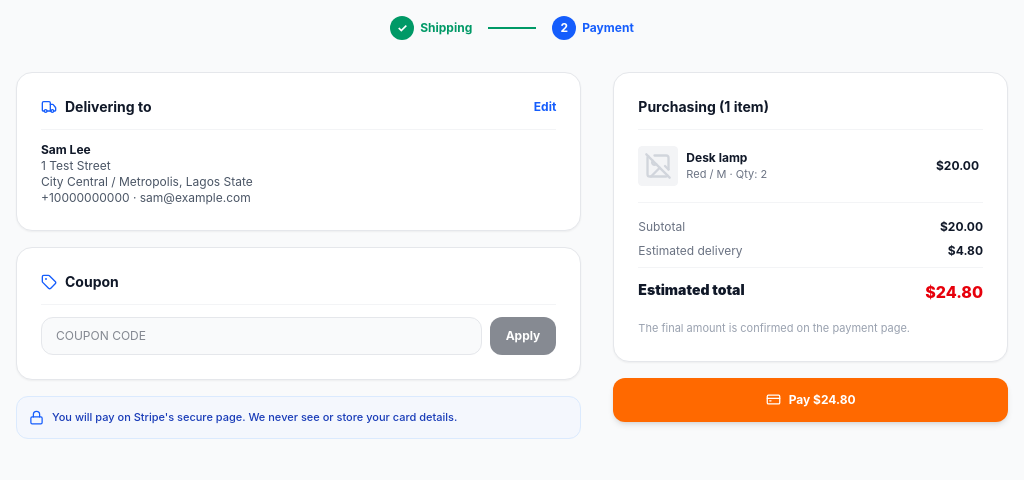
Test: Checkout page › coupon › explains a refused coupon, including the minimum spend
This screenshot has width=1024, height=480.
Step 1. Type "BIG" into the field labelled "Coupon code" → (261, 336), box [41, 317, 482, 355]
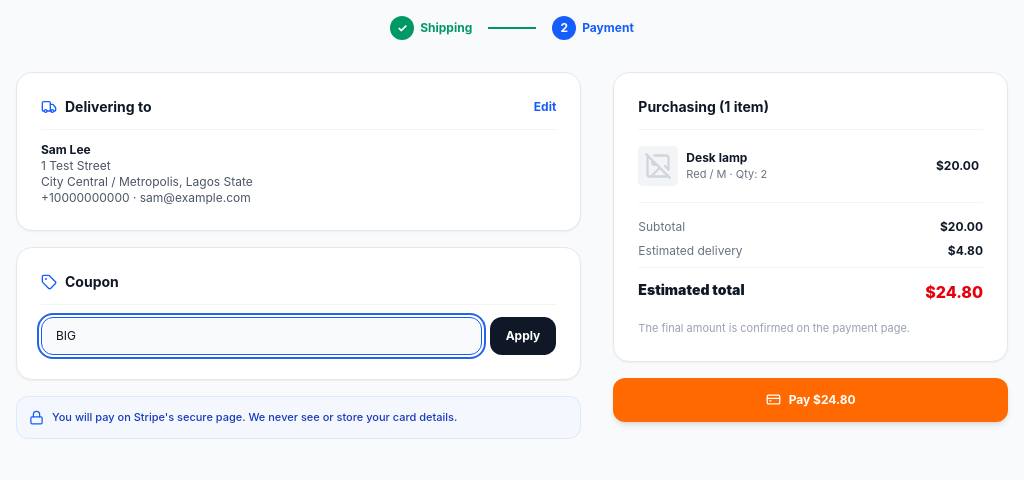
Step 2. Click the button "Apply" → (523, 336), box [490, 317, 556, 355]
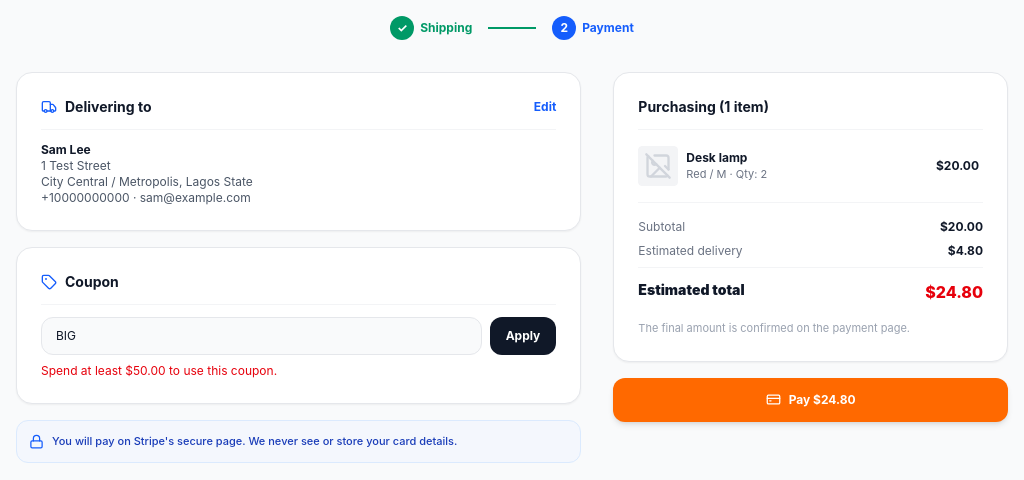
Check: the button "Pay $24.80" is shown, box [613, 378, 1008, 422]
Check: the message reads "Spend at least $50.00 to use this coupon.", box [41, 363, 277, 378]
